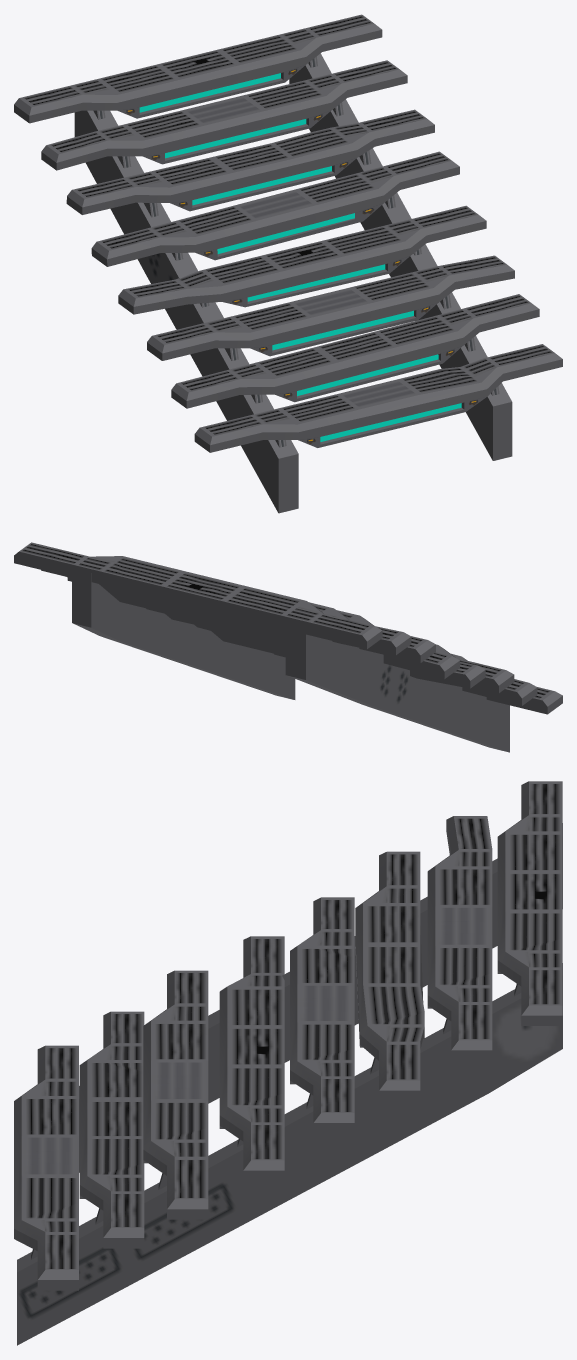
The model's file is SM_Bld_Stairs_03.fbx.
The picture shows the model from 3 angles, top to bottom: view 1: azimuth 30°, elevation 25°; view 2: azimuth 150°, elevation 25°; view 3: azimuth 270°, elevation 25°; orthographic projection. The views are drawn at different scales.
Visible parts, largest first — view 1: SM_Bld_Stairs_03; view 2: SM_Bld_Stairs_03; view 3: SM_Bld_Stairs_03.
Boxes of the visible parts, x1,y1,x2,y2 form: SM_Bld_Stairs_03: (14,14,562,513); SM_Bld_Stairs_03: (14,542,562,752); SM_Bld_Stairs_03: (14,781,562,1345).
Bounding box in the file's own units: 252 × 190 × 251.
